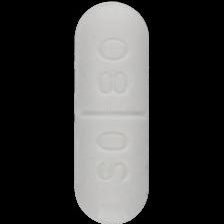60505-0080: (0, 0, 224, 224)
